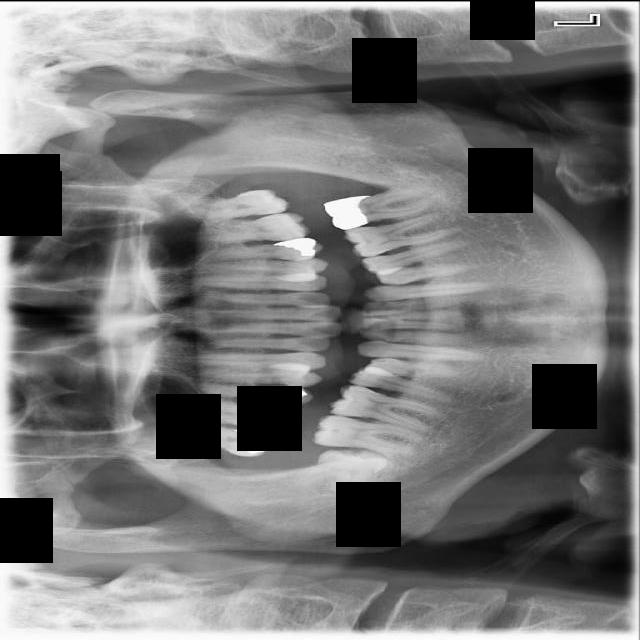52: (217, 426, 282, 460), (246, 378, 313, 410), (263, 236, 324, 262)
73: (563, 28, 581, 34)
BioHorizons Implant: (167, 186, 290, 224)
Blue Sky Bio Implant: (322, 182, 440, 232)
Caries: (159, 422, 282, 459)
Implant: (310, 411, 429, 458)
Keystone Dental Implant: (285, 445, 388, 496)
